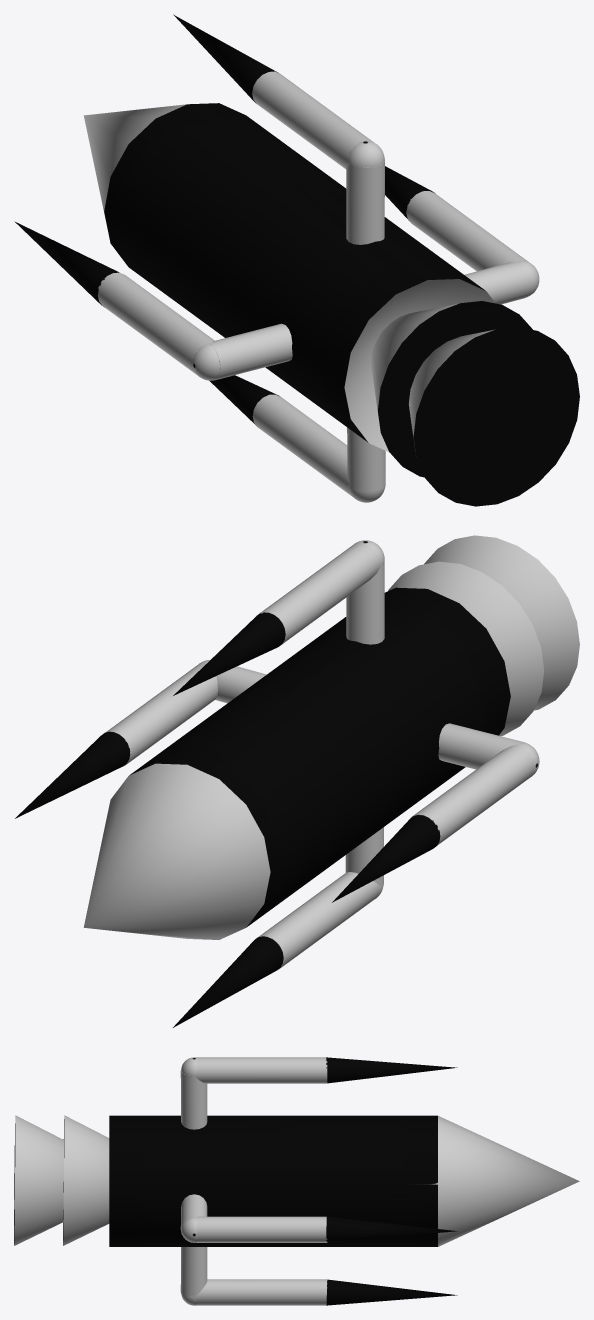
Rendered from NPCBlackWidow.fbx.
The picture shows the model from 3 angles, top to bottom: view 1: azimuth 30°, elevation 25°; view 2: azimuth 150°, elevation 25°; view 3: azimuth 270°, elevation 25°; orthographic projection. The views are drawn at different scales.
Visible parts, largest first — view 1: pCylinder3; view 2: pCylinder3; view 3: pCylinder3.
Part boxes in pixels (bbox=[...]): pCylinder3: bbox=[14, 14, 579, 506]; pCylinder3: bbox=[15, 535, 579, 1027]; pCylinder3: bbox=[14, 1057, 579, 1305].
Size of the model in its own units: 4.12 by 4.12 by 8.61.
Materials: 1 (1 with a texture image).
